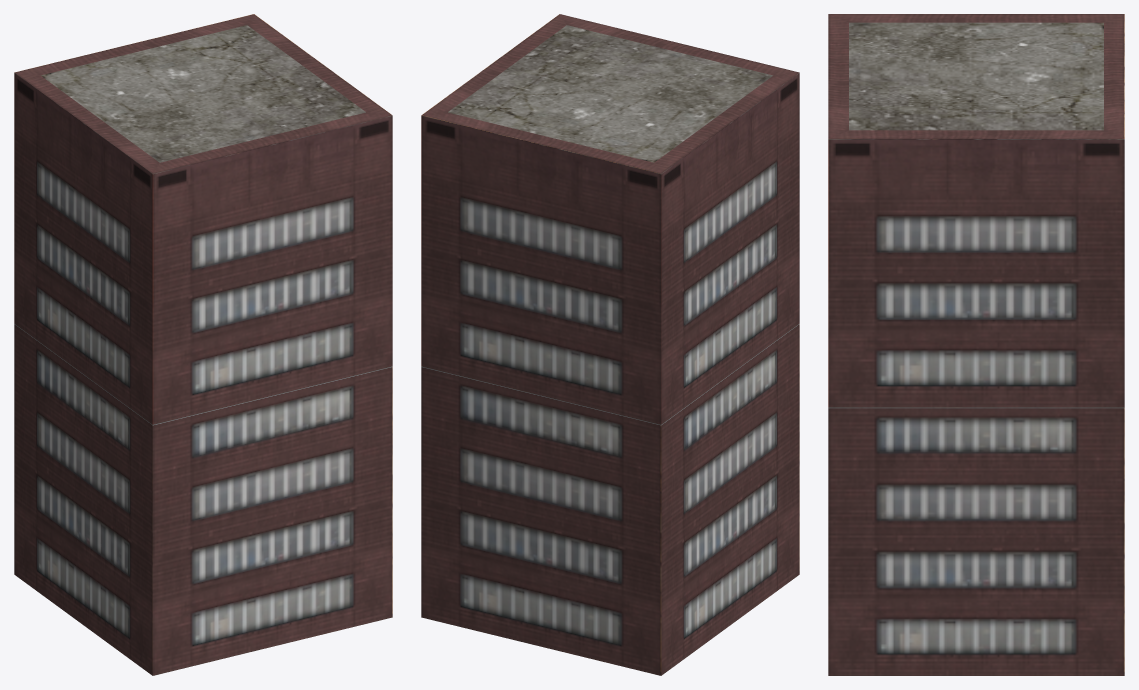
Rendered from BuildingD.fbx.
The picture shows the model from 3 angles, left to right: view 1: azimuth 30°, elevation 25°; view 2: azimuth 150°, elevation 25°; view 3: azimuth 270°, elevation 25°; orthographic projection. The views are drawn at different scales.
Visible parts, largest first — view 1: Building_D.001; view 2: Building_D.001; view 3: Building_D.001.
Boxes of the visible parts, box(x1,y1,x2,y2) form: Building_D.001: box(14, 14, 392, 675); Building_D.001: box(421, 14, 799, 675); Building_D.001: box(828, 14, 1124, 675).
Size of the model in its own units: 1500 by 3000 by 1500.
Materials: 1 (1 with a texture image).
